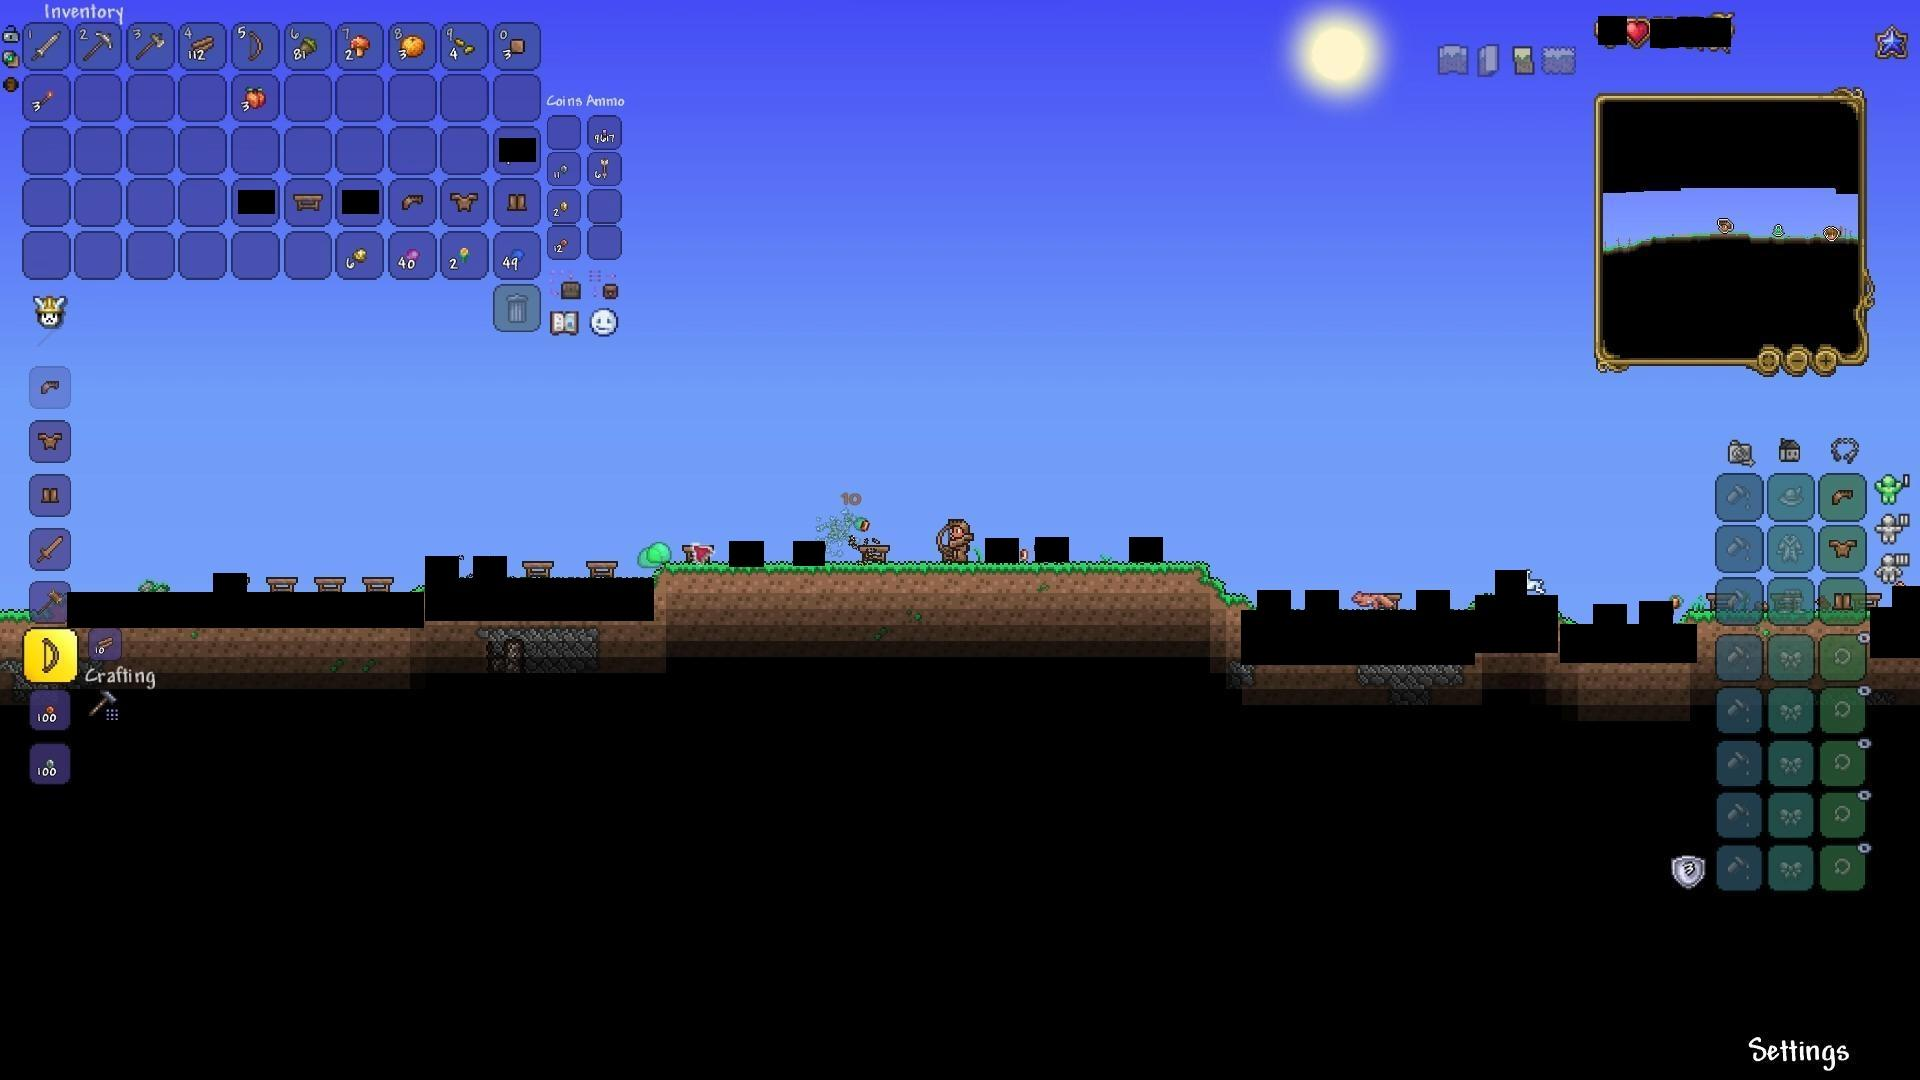breastplate: (36, 429, 65, 450), (1830, 537, 1859, 558), (448, 190, 477, 210)
dirt: (673, 560, 1244, 616)
heart: (1625, 18, 1654, 47)
helmet: (33, 375, 66, 402), (400, 189, 429, 214), (1829, 484, 1857, 509)
legs: (505, 186, 530, 214), (38, 483, 63, 510), (1832, 589, 1857, 616)
slime: (637, 541, 670, 568)
wood: (88, 632, 119, 658), (189, 34, 218, 59)
workbench: (291, 190, 327, 214), (264, 570, 297, 593), (311, 570, 344, 593), (360, 568, 393, 592), (585, 558, 618, 582), (521, 556, 554, 580), (857, 545, 889, 566)
